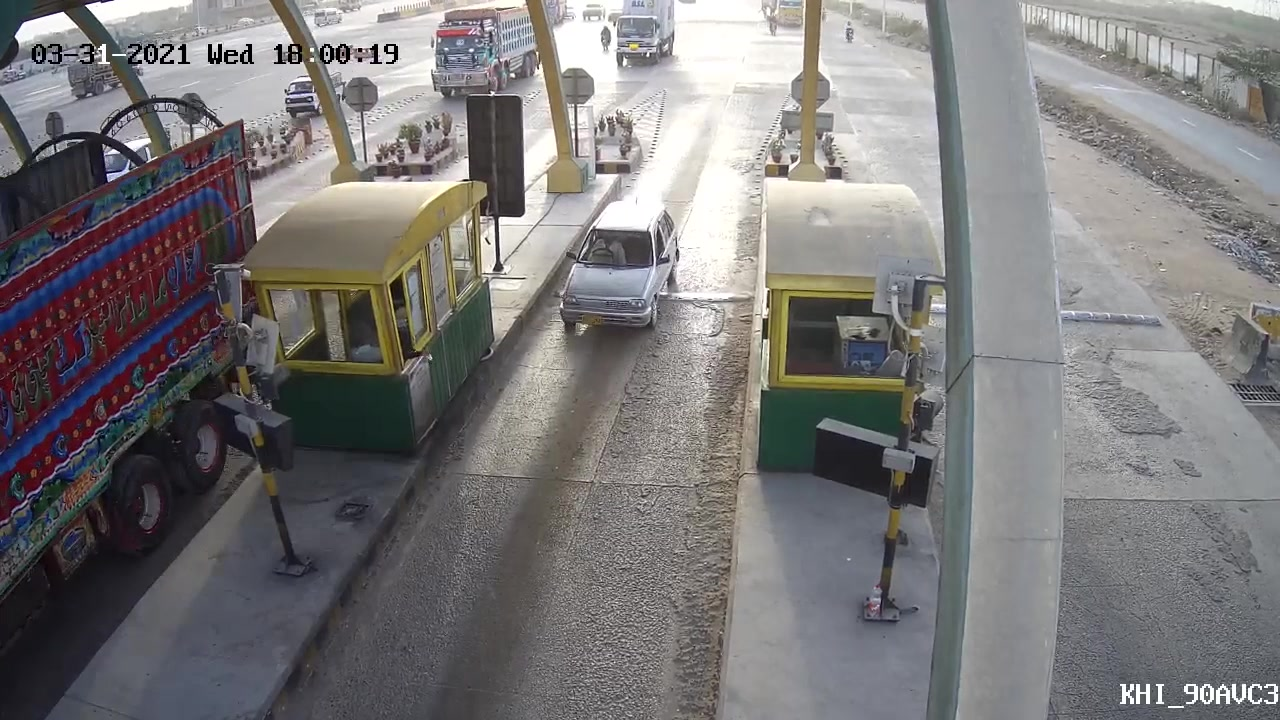F1: (547, 200, 694, 342)
